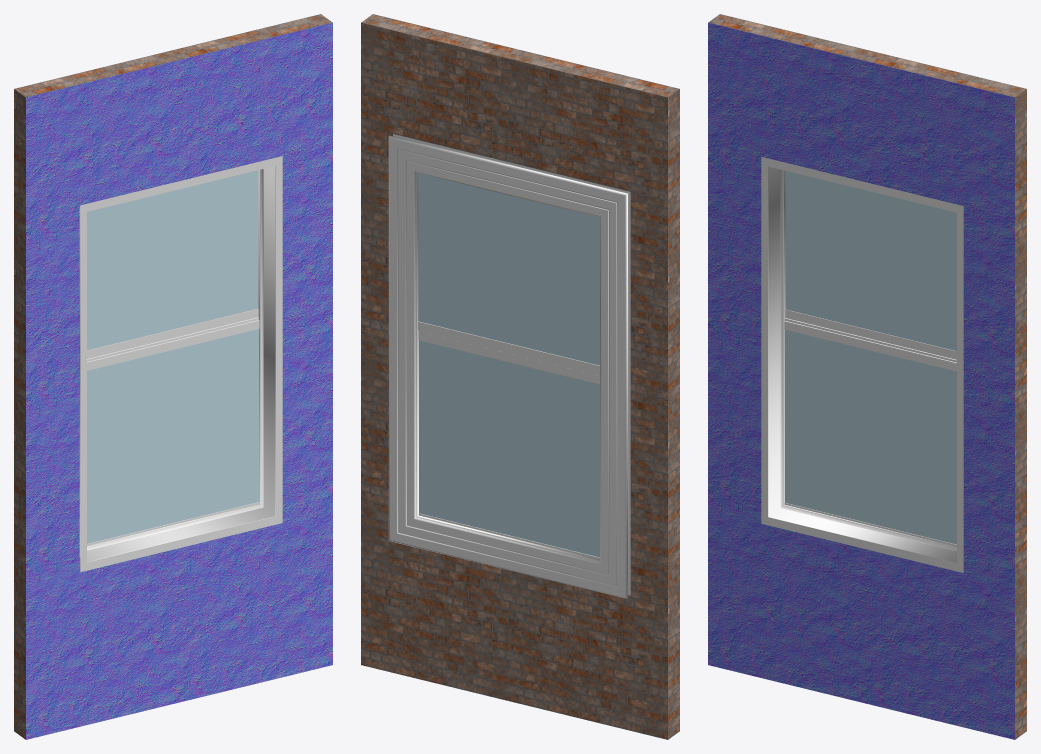
Rendered from Office Window Exterior.fbx.
3 views of the same model, side by side, from view 1: azimuth 30°, elevation 25°; view 2: azimuth 150°, elevation 25°; view 3: azimuth 330°, elevation 25° (orthographic).
Parts seen in each view (by area): view 1: Wall, Window_LOD0, Slider; view 2: Wall, Window_LOD0, Slider; view 3: Wall, Window_LOD0, Slider.
Boxes of the visible parts, box(x1,y1,x2,y2) form: Wall: box(14, 14, 332, 739); Window_LOD0: box(79, 156, 282, 572); Slider: box(87, 317, 259, 545); Wall: box(361, 14, 679, 739); Window_LOD0: box(388, 134, 630, 598); Slider: box(418, 332, 599, 559); Wall: box(708, 14, 1026, 739); Window_LOD0: box(761, 157, 963, 572); Slider: box(784, 318, 956, 546).
Size of the model in its own units: 150 by 300 by 15.2.
